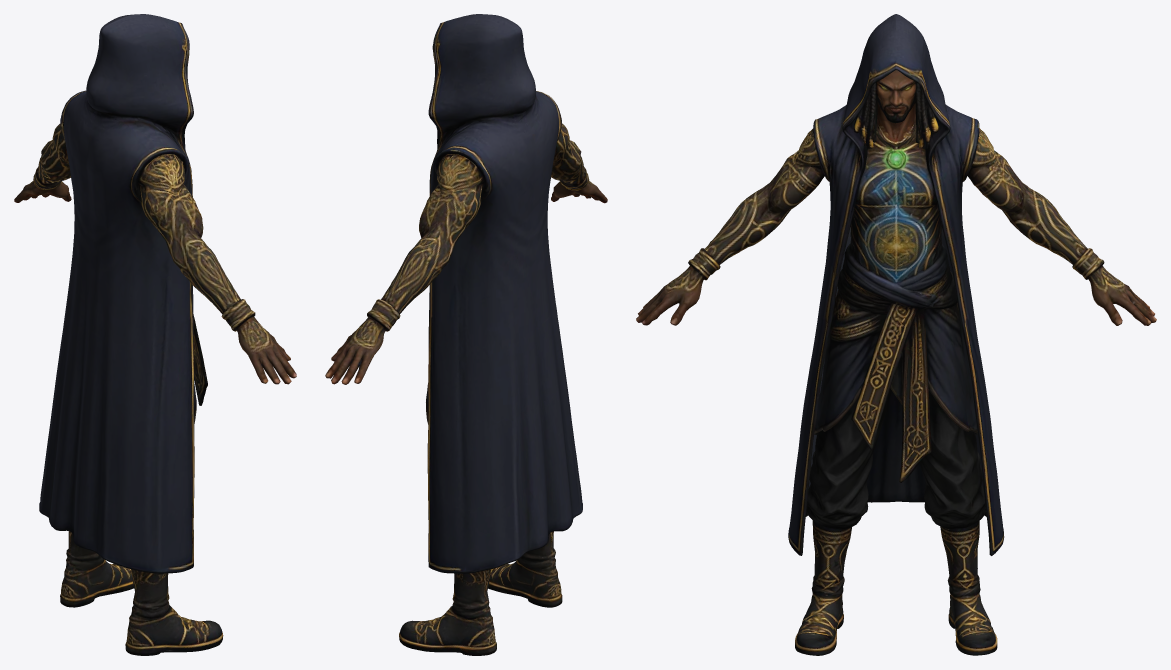
The model's file is melvinci.glb.
3 renders of one model, left to right at view 1: azimuth 30°, elevation 25°; view 2: azimuth 150°, elevation 25°; view 3: azimuth 270°, elevation 25°, orthographic.
Parts seen in each view (by area): view 1: tripo_node_9aefbe0a-055a-4b1f-a8c9-9e8e76d63b4f; view 2: tripo_node_9aefbe0a-055a-4b1f-a8c9-9e8e76d63b4f; view 3: tripo_node_9aefbe0a-055a-4b1f-a8c9-9e8e76d63b4f.
Part boxes in pixels (bbox=[...]): tripo_node_9aefbe0a-055a-4b1f-a8c9-9e8e76d63b4f: bbox=[14, 14, 296, 655]; tripo_node_9aefbe0a-055a-4b1f-a8c9-9e8e76d63b4f: bbox=[325, 14, 607, 655]; tripo_node_9aefbe0a-055a-4b1f-a8c9-9e8e76d63b4f: bbox=[636, 14, 1156, 655].
Bounding box in the file's own units: 0.2163 × 1 × 0.7713.
Materials: 1 (1 with a texture image).
